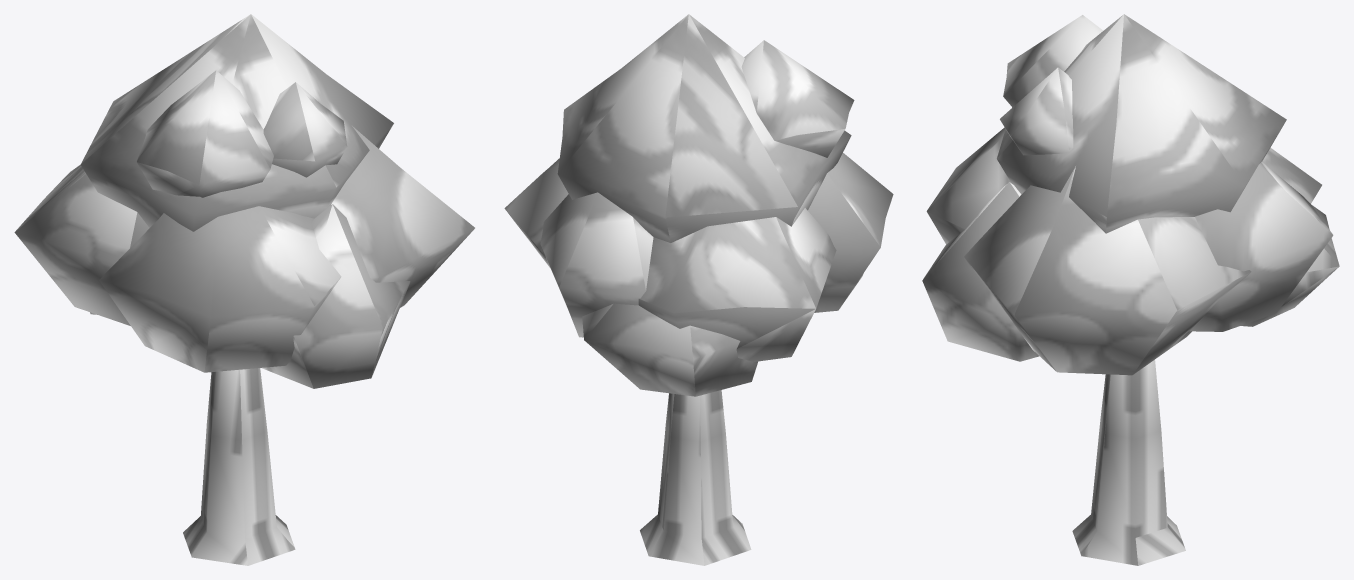
File: tree_maple_1.obj
3 views of the same model, side by side, from view 1: azimuth 30°, elevation 25°; view 2: azimuth 150°, elevation 25°; view 3: azimuth 270°, elevation 25° (orthographic).
Parts seen in each view (by area): view 1: source_component_034, source_component_036, source_component_000, source_component_037, source_component_035, source_component_031, source_component_033, source_component_038; view 2: source_component_036, source_component_033, source_component_000, source_component_032, source_component_030, source_component_037, source_component_034, source_component_035; view 3: source_component_036, source_component_035, source_component_000, source_component_032, source_component_031, source_component_038, source_component_034, source_component_037, source_component_030, source_component_033.
Part boxes in pixels (<box>): source_component_034: <box>99,206,341,372</box>; source_component_036: <box>80,14,393,231</box>; source_component_000: <box>183,368,295,565</box>; source_component_037: <box>137,70,273,197</box>; source_component_035: <box>331,126,474,307</box>; source_component_031: <box>262,204,410,388</box>; source_component_033: <box>14,165,149,325</box>; source_component_038: <box>263,82,347,177</box>; source_component_036: <box>557,14,851,242</box>; source_component_033: <box>638,208,836,361</box>; source_component_000: <box>640,390,751,565</box>; source_component_032: <box>540,192,653,337</box>; source_component_030: <box>582,303,758,396</box>; source_component_037: <box>741,40,854,157</box>; source_component_034: <box>808,153,893,312</box>; source_component_035: <box>504,158,568,267</box>; source_component_036: <box>997,14,1286,233</box>; source_component_035: <box>964,166,1251,375</box>; source_component_000: <box>1072,359,1185,565</box>; source_component_032: <box>1189,162,1333,331</box>; source_component_031: <box>922,182,1039,361</box>; source_component_038: <box>1000,67,1073,155</box>; source_component_034: <box>926,127,1010,244</box>; source_component_037: <box>1003,15,1103,107</box>; source_component_030: <box>1241,205,1339,326</box>; source_component_033: <box>1262,147,1321,203</box>.
Bounding box in the file's own units: 0.7528 × 1.08 × 0.765.
